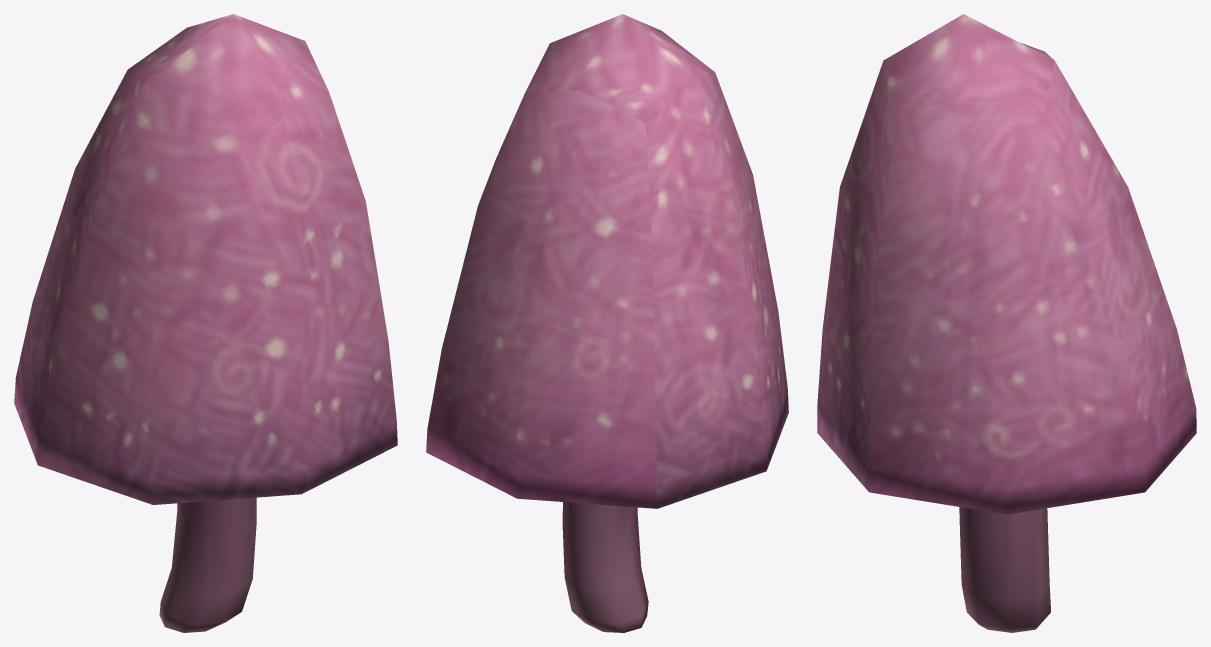
The model's file is SingleTall.fbx.
3 renders of one model, left to right at view 1: azimuth 30°, elevation 25°; view 2: azimuth 150°, elevation 25°; view 3: azimuth 270°, elevation 25°, orthographic. The views are drawn at different scales.
Visible parts, largest first — view 1: SingtallShroom; view 2: SingtallShroom; view 3: SingtallShroom.
Boxes of the visible parts, x1,y1,x2,y2 form: SingtallShroom: (14,14,397,632); SingtallShroom: (426,14,788,632); SingtallShroom: (817,14,1196,632).
Bounding box in the file's own units: 4.91 × 8.69 × 4.83.
